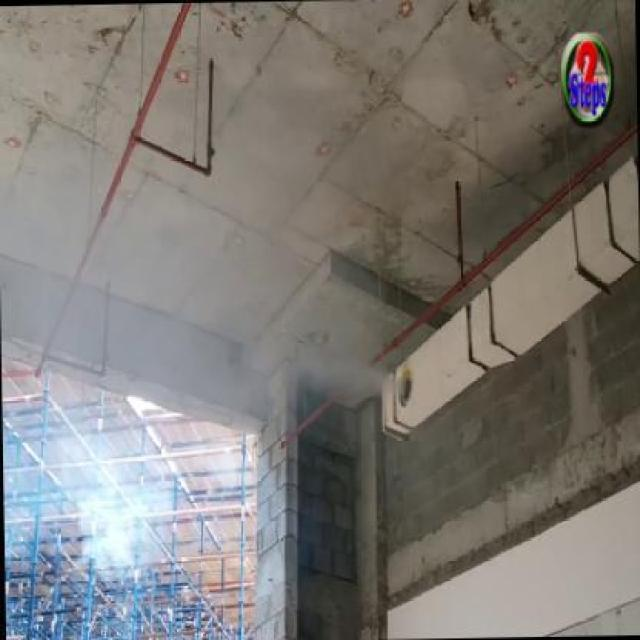fire: (61, 427, 170, 584), (299, 322, 407, 413)
